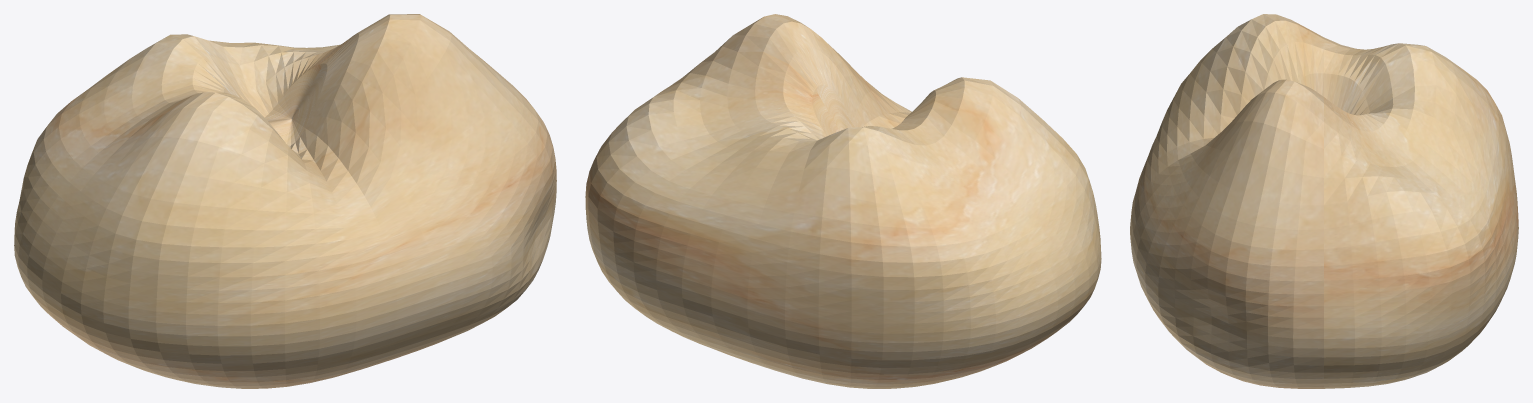
File: fat.obj
3 renders of one model, left to right at view 1: azimuth 30°, elevation 25°; view 2: azimuth 150°, elevation 25°; view 3: azimuth 270°, elevation 25°, orthographic. The views are drawn at different scales.
Parts seen in each view (by area): view 1: fat; view 2: fat; view 3: fat.
Boxes of the visible parts, x1,y1,x2,y2 form: fat: (14, 14, 556, 388); fat: (585, 14, 1101, 388); fat: (1130, 14, 1518, 388).
Bounding box in the file's own units: 77 × 46.87 × 56.6.
1 material, 1 textured.
